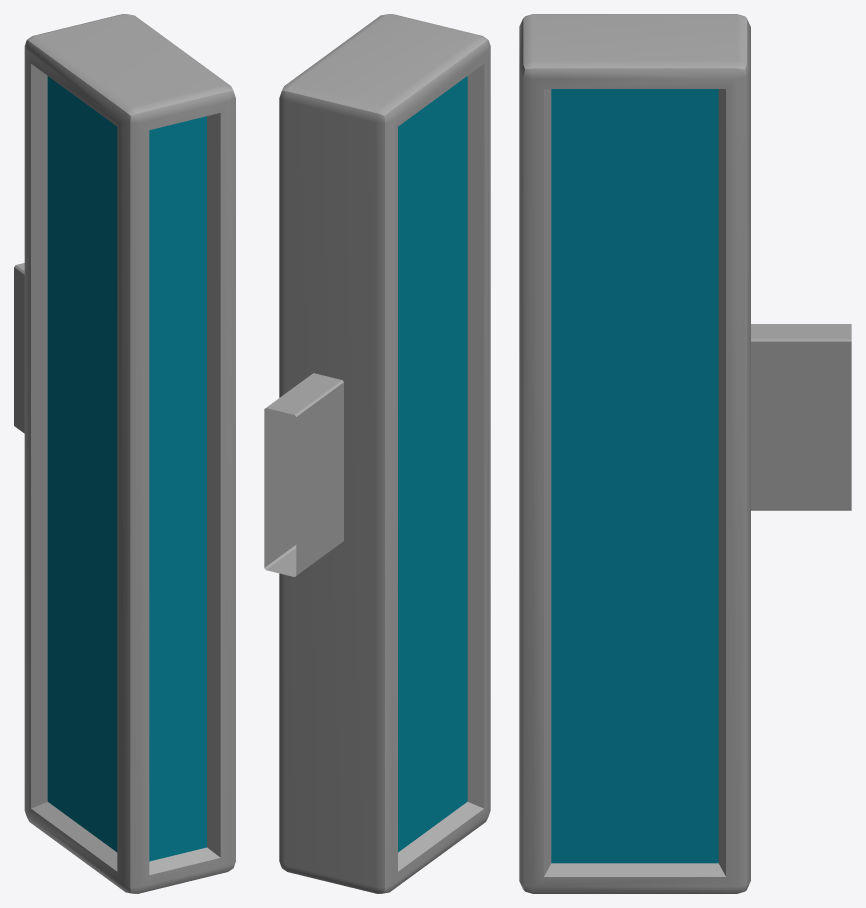
Rendered from WallAttach_NeonSign_Blue_001.fbx.
3 views of the same model, side by side, from view 1: azimuth 30°, elevation 25°; view 2: azimuth 150°, elevation 25°; view 3: azimuth 270°, elevation 25° (orthographic). The views are drawn at different scales.
Parts seen in each view (by area): view 1: pCube12; view 2: pCube12; view 3: pCube12.
Part boxes in pixels (x1,y1,x2,y2): pCube12: [14, 14, 235, 893]; pCube12: [264, 14, 490, 893]; pCube12: [519, 14, 851, 893].
Bounding box in the file's own units: 108 × 722 × 261.
